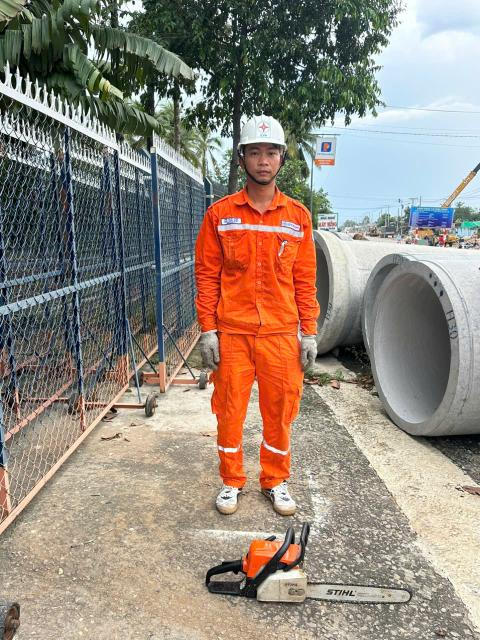gloves: (187, 327, 236, 370), (288, 327, 327, 367)
helmet: (234, 103, 293, 163)
shoes: (257, 472, 306, 518), (211, 479, 248, 517)
